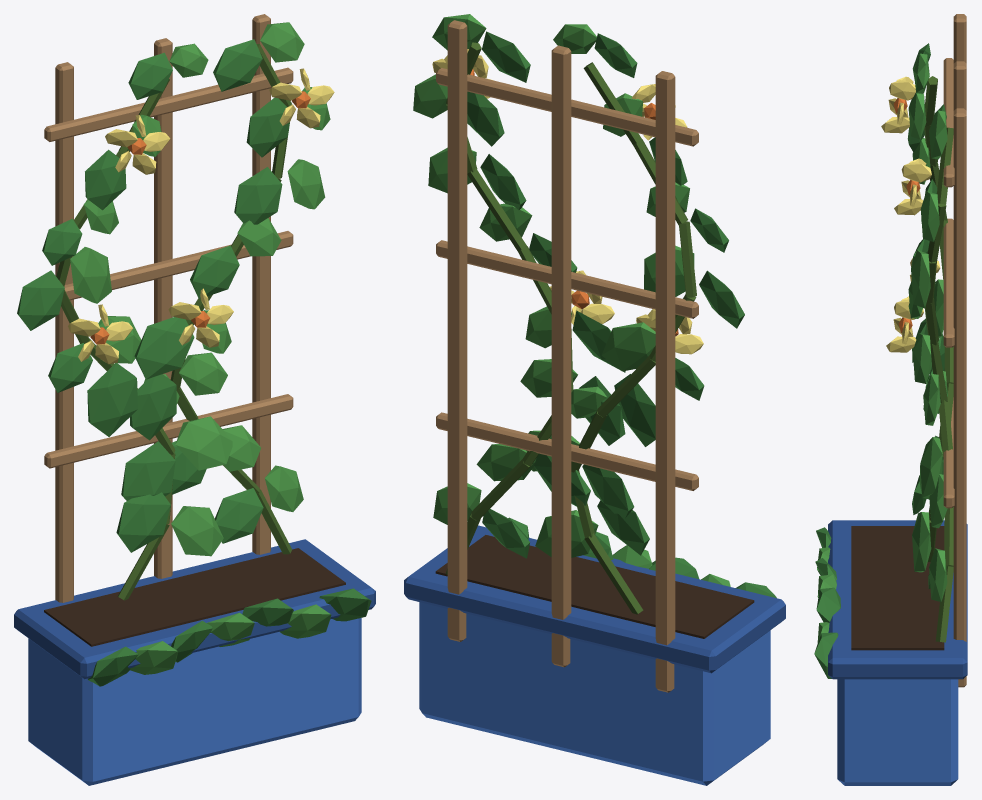
Rendered from vine.glb.
The picture shows the model from 3 angles, left to right: view 1: azimuth 30°, elevation 25°; view 2: azimuth 150°, elevation 25°; view 3: azimuth 270°, elevation 25°; orthographic projection. The views are drawn at different scales.
Parts seen in each view (by area): view 1: vine; view 2: vine; view 3: vine.
Boxes of the visible parts, bbox=[...] form: vine: bbox=[14, 14, 375, 785]; vine: bbox=[404, 14, 785, 785]; vine: bbox=[814, 14, 967, 785].
Size of the model in its own units: 0.3814 by 0.7898 by 0.1648.
